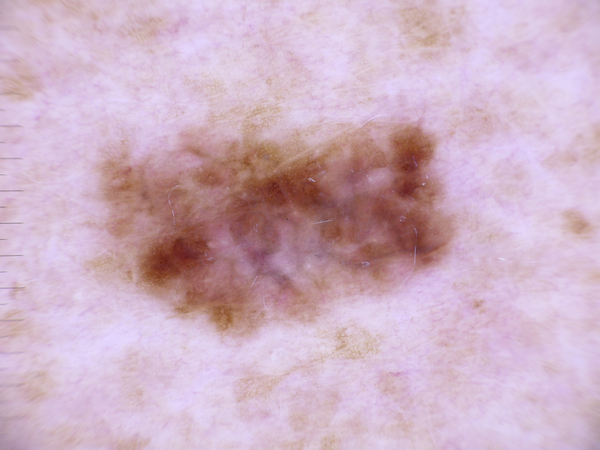Color changes: (136, 242, 196, 306)
